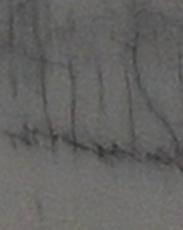fissura: (31, 41, 181, 149), (6, 113, 183, 181)
